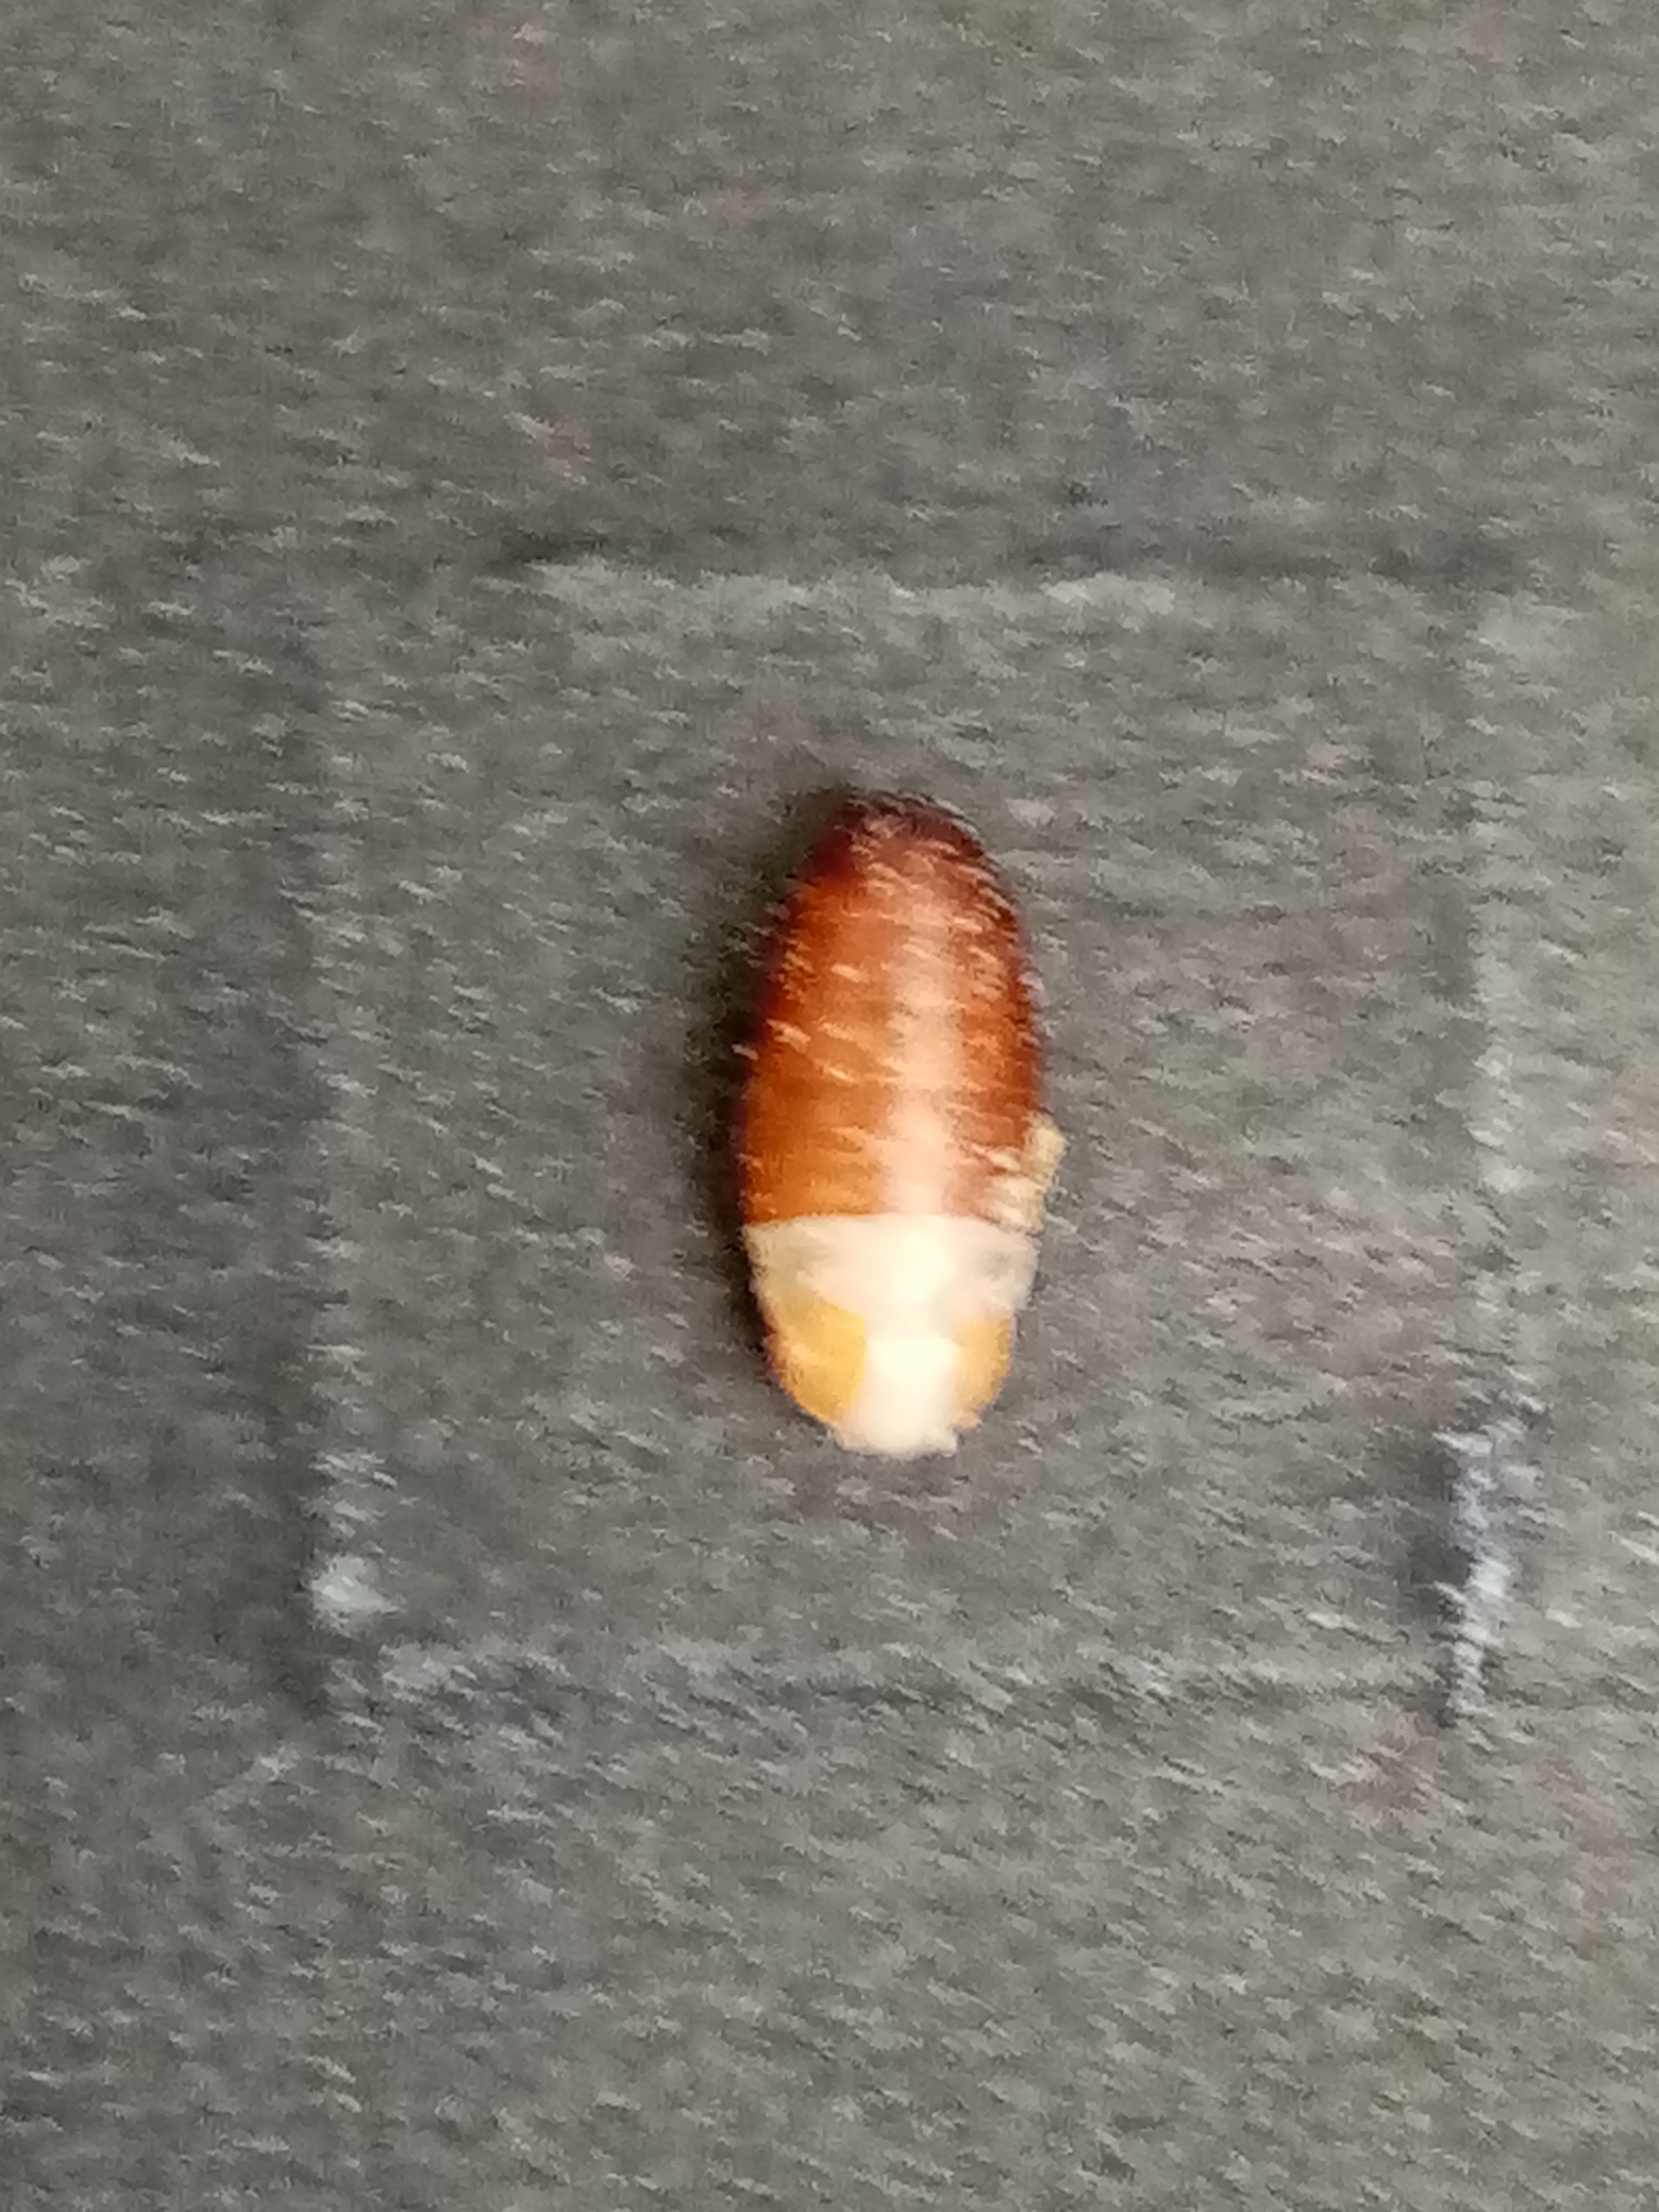pupa: (744, 1228, 1040, 1461)
